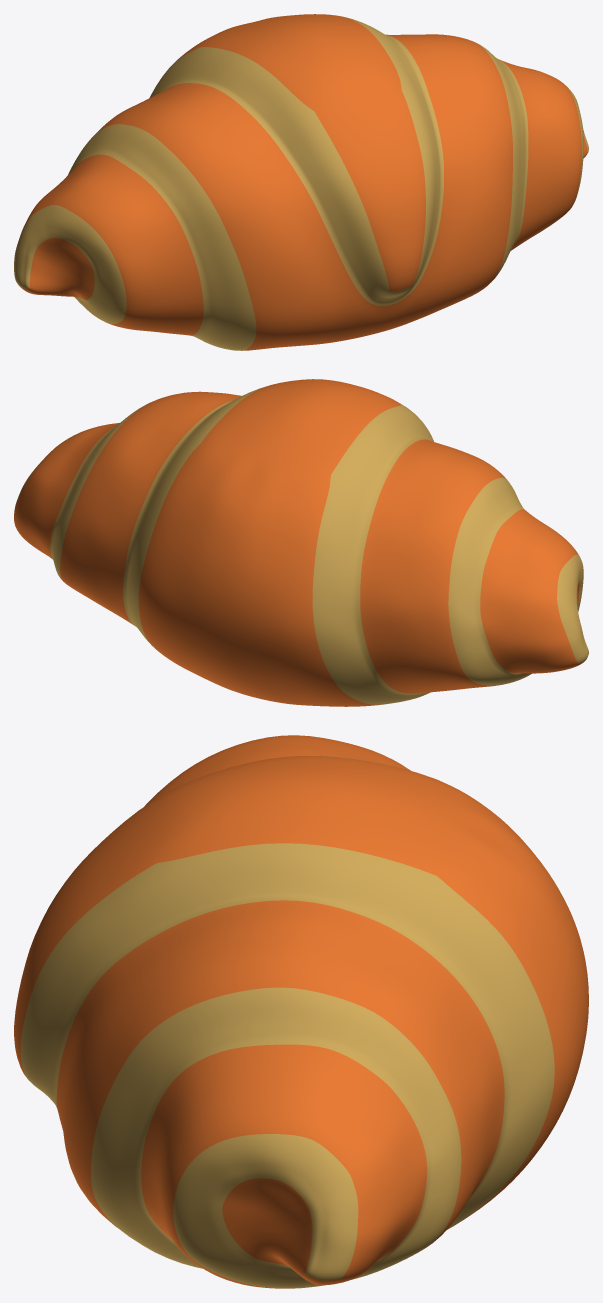
The model's file is croissant.07f2fe3c.glb.
The picture shows the model from 3 angles, top to bottom: view 1: azimuth 30°, elevation 25°; view 2: azimuth 150°, elevation 25°; view 3: azimuth 270°, elevation 25°; orthographic projection. The views are drawn at different scales.
Visible parts, largest first — view 1: Croissant; view 2: Croissant; view 3: Croissant.
Boxes of the visible parts, bbox=[...] form: Croissant: bbox=[14, 14, 588, 350]; Croissant: bbox=[14, 379, 588, 706]; Croissant: bbox=[14, 735, 588, 1288].
Bounding box in the file's own units: 2.32 × 1.08 × 1.34.
1 material, 1 textured.
